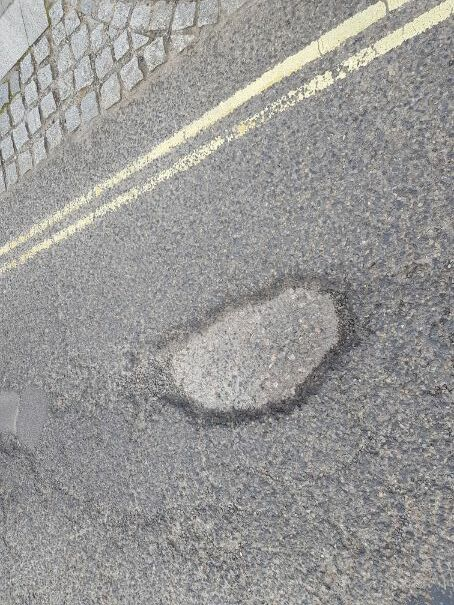pothole: (132, 264, 367, 434)
